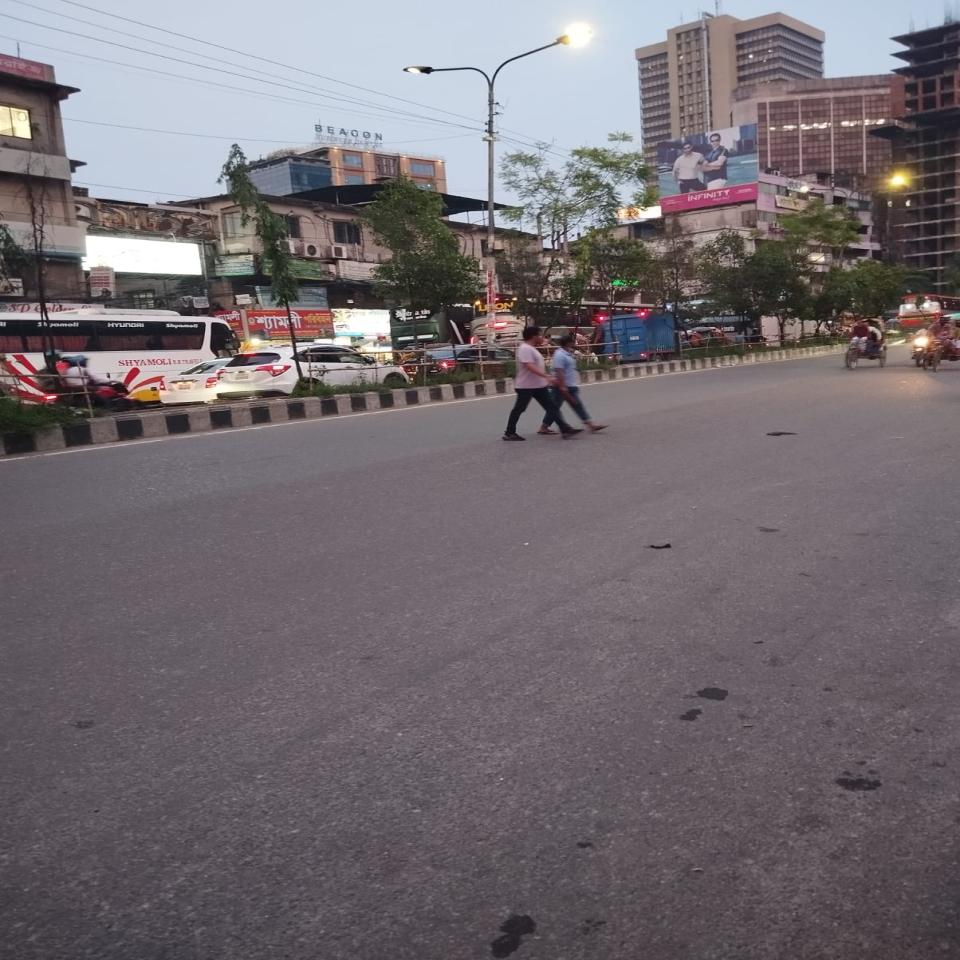person: (502, 326, 582, 442), (535, 335, 611, 434)
